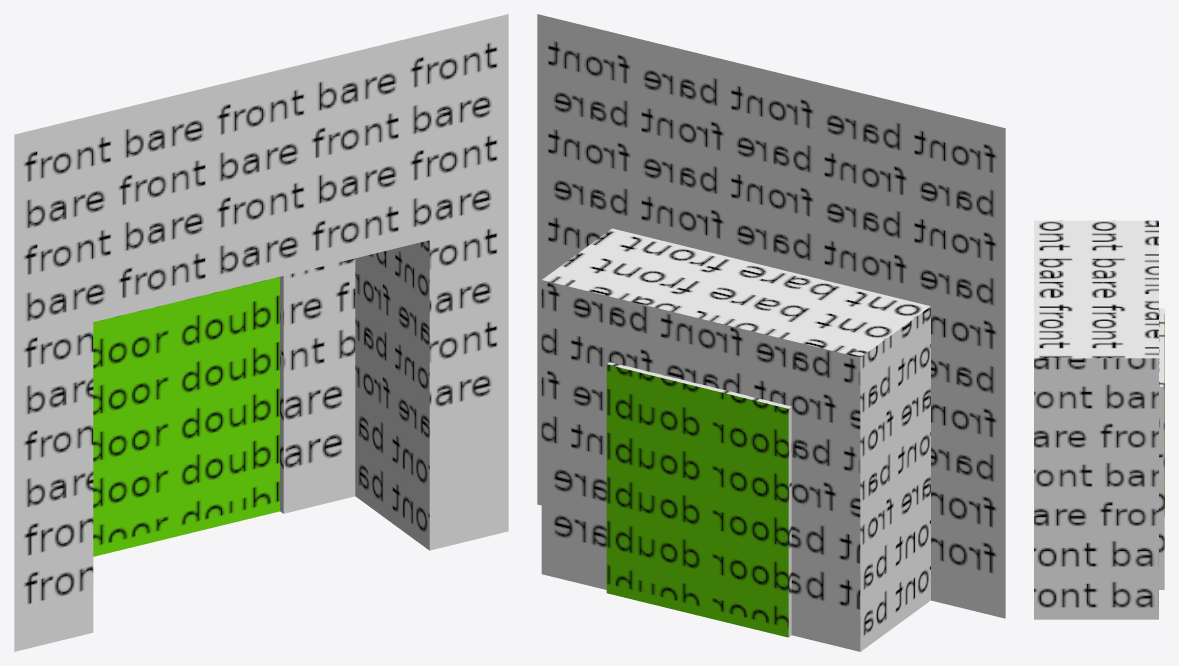
File: door_double.gltf
3 views of the same model, side by side, from view 1: azimuth 30°, elevation 25°; view 2: azimuth 150°, elevation 25°; view 3: azimuth 270°, elevation 25° (orthographic). The views are drawn at different scales.
Parts seen in each view (by area): view 1: door_double; view 2: door_double; view 3: door_double.
Boxes of the visible parts, bbox=[...] form: door_double: bbox=[14, 14, 508, 651]; door_double: bbox=[537, 14, 1005, 651]; door_double: bbox=[1034, 220, 1164, 619].
Size of the model in its own units: 5 by 5 by 1.36.
2 materials, 2 textured.
